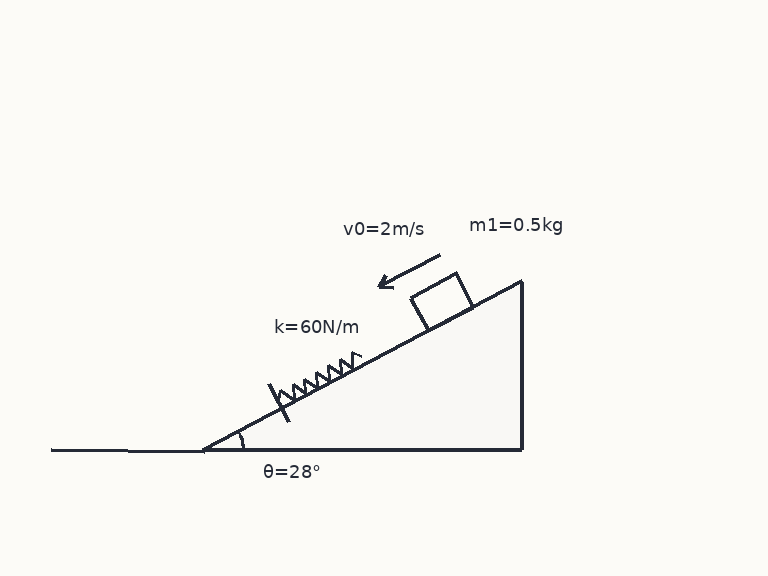block: (408, 271, 475, 332)
ramp: (201, 279, 523, 452)
spring: (276, 351, 363, 402)
